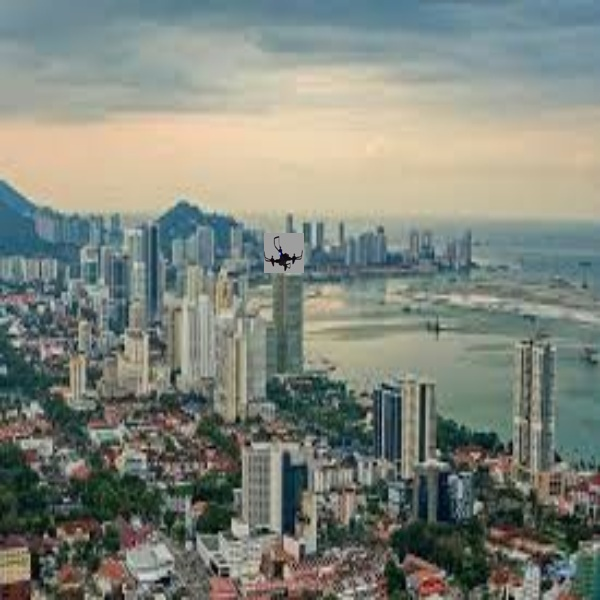drone: (263, 231, 306, 276)
